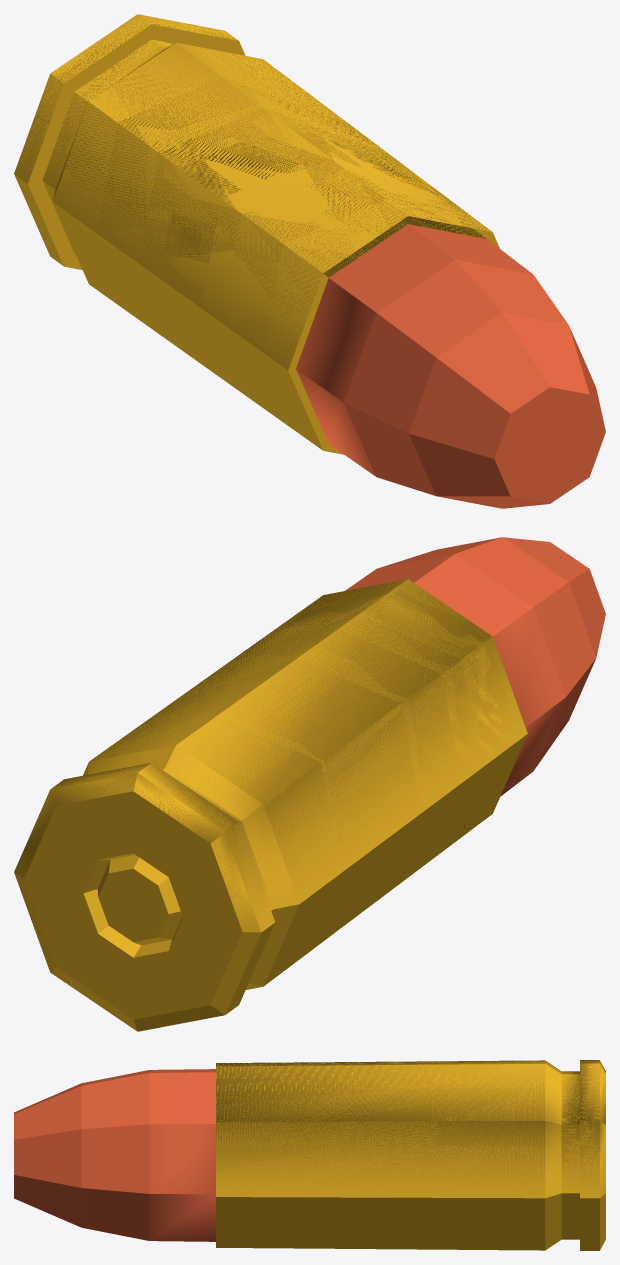
The picture shows the model from 3 angles, top to bottom: view 1: azimuth 30°, elevation 25°; view 2: azimuth 150°, elevation 25°; view 3: azimuth 270°, elevation 25°; orthographic projection. The views are drawn at different scales.
Parts seen in each view (by area): view 1: 9x19mm, 9x19mm Bullet; view 2: 9x19mm, 9x19mm Bullet; view 3: 9x19mm, 9x19mm Bullet.
Part boxes in pixels (x1,y1,x2,y2): 9x19mm: [14, 14, 499, 454]; 9x19mm Bullet: [296, 224, 605, 508]; 9x19mm: [14, 579, 527, 1031]; 9x19mm Bullet: [345, 537, 605, 796]; 9x19mm: [216, 1060, 605, 1250]; 9x19mm Bullet: [14, 1069, 215, 1241].
Bounding box in the file's own units: 0.996 × 0.996 × 2.91.
